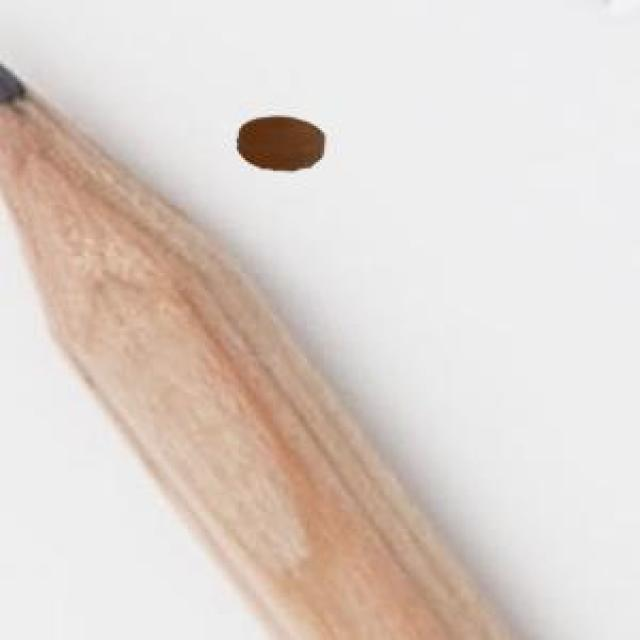Bactidol: (223, 95, 335, 183)
